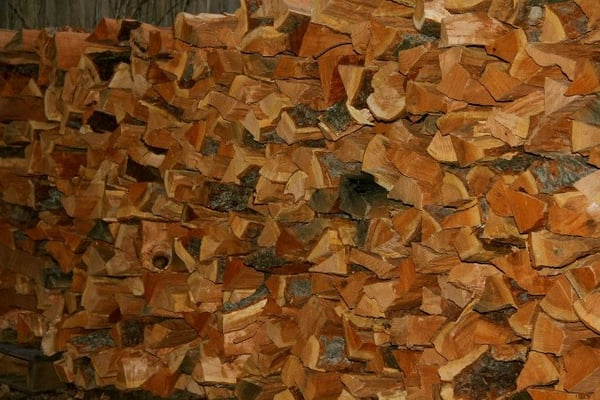sandwich: (0, 0, 599, 393)
